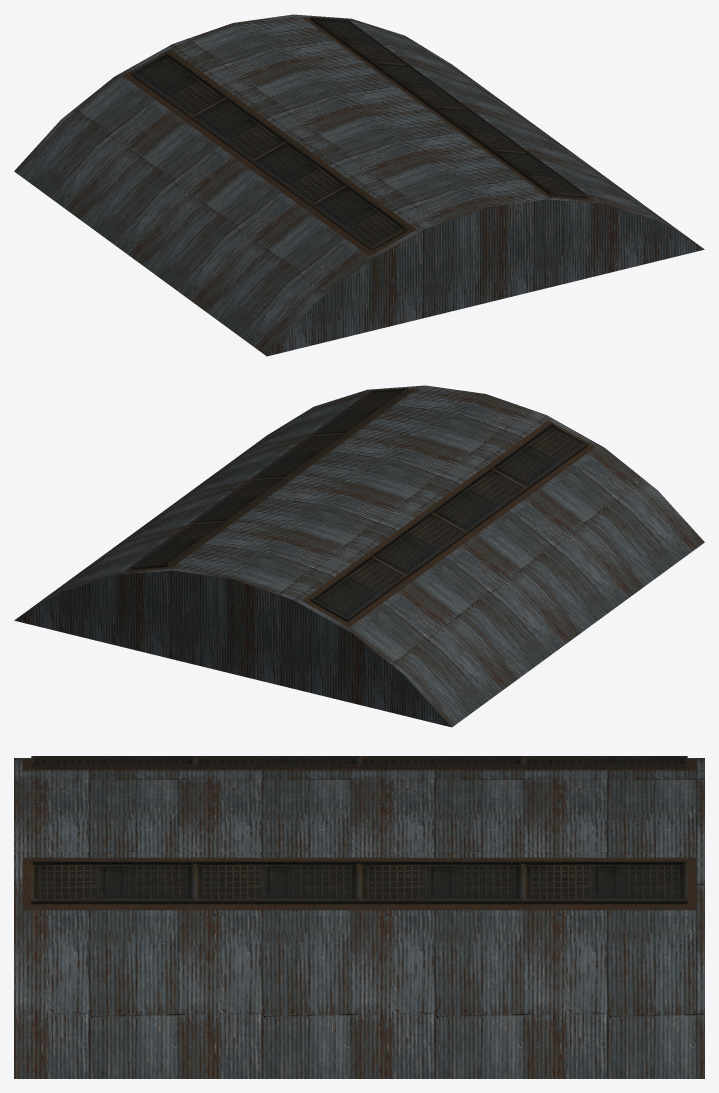
File: warehouse_hs_1_roof_2.obj
3 renders of one model, top to bottom at view 1: azimuth 30°, elevation 25°; view 2: azimuth 150°, elevation 25°; view 3: azimuth 270°, elevation 25°, orthographic. The views are drawn at different scales.
Parts seen in each view (by area): view 1: warehouse_hs_1_roof_2; view 2: warehouse_hs_1_roof_2; view 3: warehouse_hs_1_roof_2.
Part boxes in pixels (box(x1,y1,x2,y2)): warehouse_hs_1_roof_2: box(14, 14, 704, 356); warehouse_hs_1_roof_2: box(14, 385, 704, 727); warehouse_hs_1_roof_2: box(14, 756, 704, 1078).
Size of the model in its own units: 8 by 1.66 by 8.
